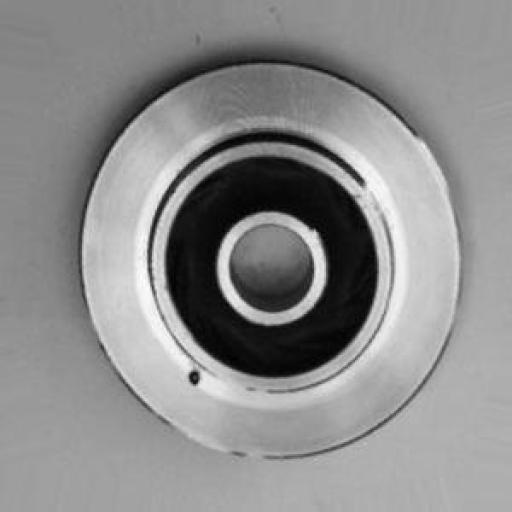defect: (181, 346, 217, 405)
